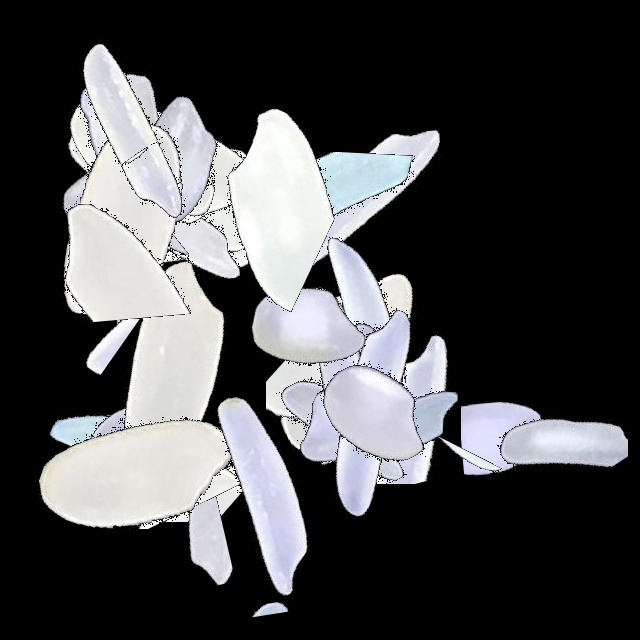Broken: (170, 69, 336, 319), (279, 319, 529, 484), (466, 286, 628, 536), (48, 117, 202, 367), (211, 152, 461, 304), (461, 310, 609, 560), (30, 467, 280, 601), (146, 62, 272, 312), (133, 52, 255, 302), (22, 93, 272, 205), (144, 132, 255, 382), (266, 276, 376, 526), (97, 128, 206, 378), (62, 138, 167, 388), (67, 419, 317, 522), (305, 296, 395, 546), (38, 180, 126, 430), (280, 424, 530, 512), (104, 147, 191, 397), (100, 536, 350, 620), (13, 445, 263, 529), (35, 176, 285, 259), (117, 62, 198, 312), (50, 136, 300, 212)
Full: (25, 322, 275, 572), (232, 242, 482, 492), (233, 78, 483, 328), (227, 243, 477, 493), (9, 311, 259, 561), (268, 301, 518, 551), (46, 54, 296, 304), (50, 108, 300, 358), (59, 60, 309, 310), (39, 33, 289, 283), (46, 241, 296, 491), (10, 347, 260, 597), (0, 72, 250, 322), (238, 208, 488, 458), (218, 309, 468, 559), (0, 0, 250, 250), (237, 259, 487, 509), (213, 248, 463, 498), (229, 298, 479, 548), (47, 41, 297, 291), (248, 285, 498, 535), (178, 206, 428, 456), (0, 96, 250, 346), (8, 6, 258, 256), (250, 288, 500, 538), (131, 369, 381, 619)
